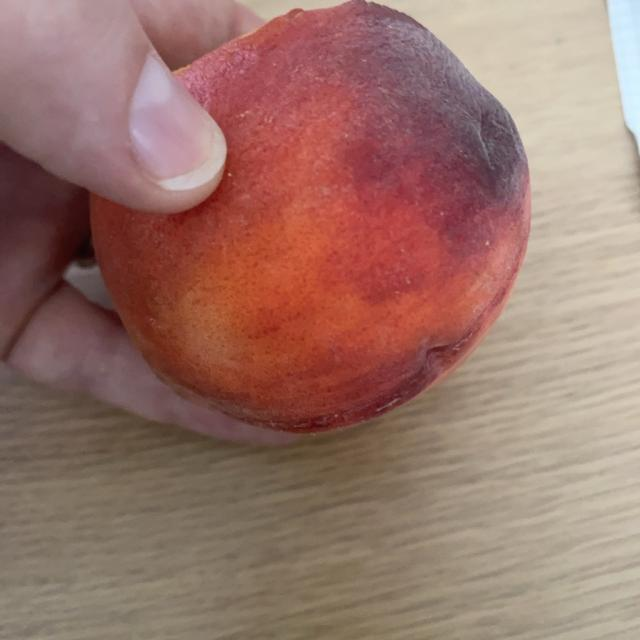peach: (97, 14, 521, 425)
